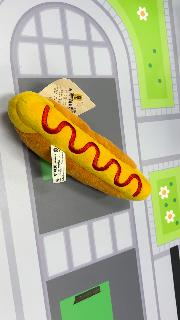hotdog: (7, 90, 152, 202)
